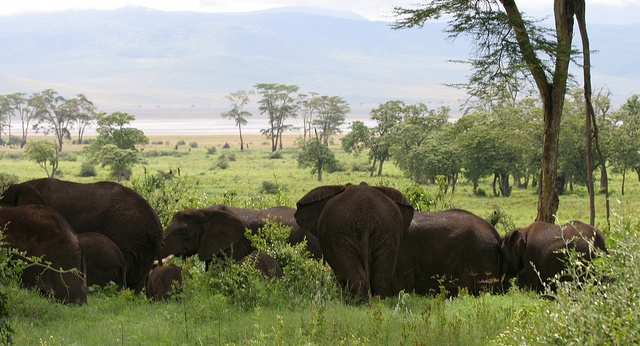elephant: (1, 177, 163, 304), (152, 205, 331, 290), (294, 181, 414, 302), (397, 208, 506, 299), (501, 221, 611, 304)
